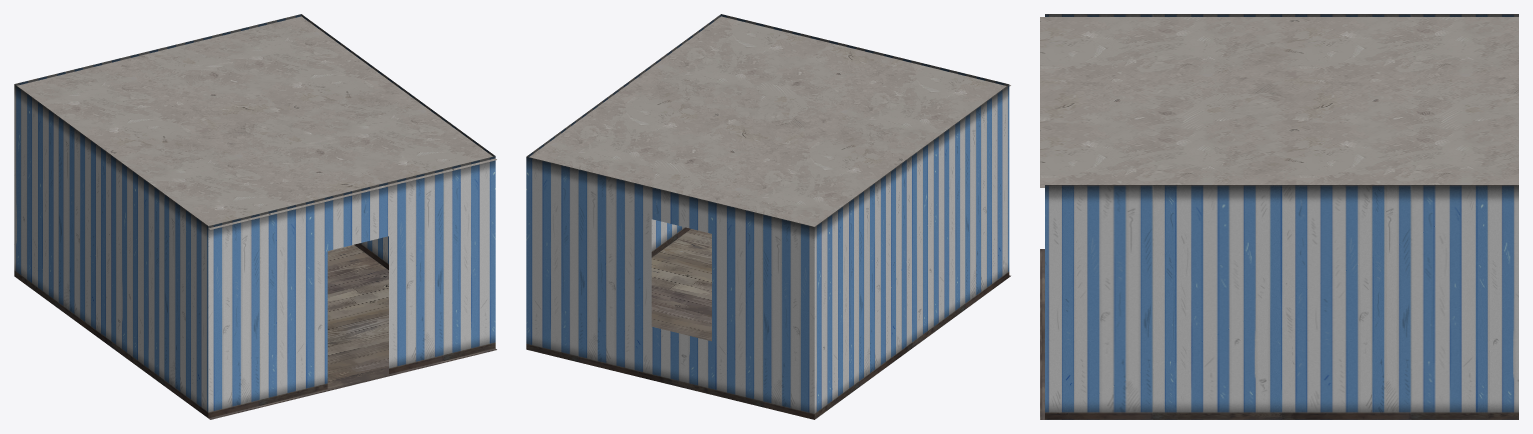
The model's file is kidroom.fbx.
3 views of the same model, side by side, from view 1: azimuth 30°, elevation 25°; view 2: azimuth 150°, elevation 25°; view 3: azimuth 270°, elevation 25° (orthographic). The views are drawn at different scales.
Parts seen in each view (by area): view 1: kidwalls, kid_roof, kidfloor; view 2: kidwalls, kid_roof, kidfloor; view 3: kidwalls, kid_roof, kidfloor.
Part boxes in pixels (x1,y1,x2,y2): kidwalls: [14, 14, 495, 418]; kid_roof: [17, 16, 496, 229]; kidfloor: [208, 244, 496, 419]; kidwalls: [526, 14, 1009, 419]; kid_roof: [529, 16, 1010, 226]; kidfloor: [651, 229, 1010, 341]; kidwalls: [1045, 14, 1518, 419]; kid_roof: [1040, 17, 1518, 187]; kidfloor: [1040, 249, 1044, 419].
Size of the model in its own units: 482 by 309 by 570.
